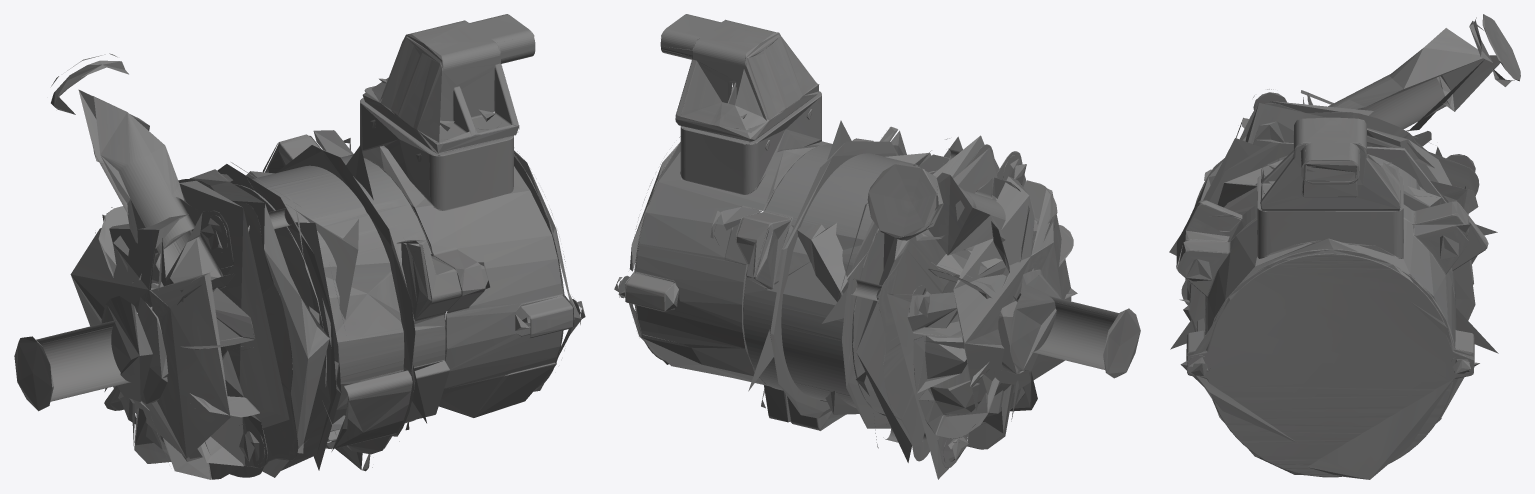
Rendered from engineComponent_water_pump_a01.glb.
The picture shows the model from 3 angles, left to right: view 1: azimuth 30°, elevation 25°; view 2: azimuth 150°, elevation 25°; view 3: azimuth 270°, elevation 25°; orthographic projection. The views are drawn at different scales.
Parts seen in each view (by area): view 1: geometry_0; view 2: geometry_0; view 3: geometry_0.
Boxes of the visible parts, x1,y1,x2,y2 form: geometry_0: (14,14,585,479); geometry_0: (614,14,1140,479); geometry_0: (1169,14,1520,479).
Size of the model in its own units: 0.42 by 0.3283 by 0.2859.
1 material, 1 textured.
